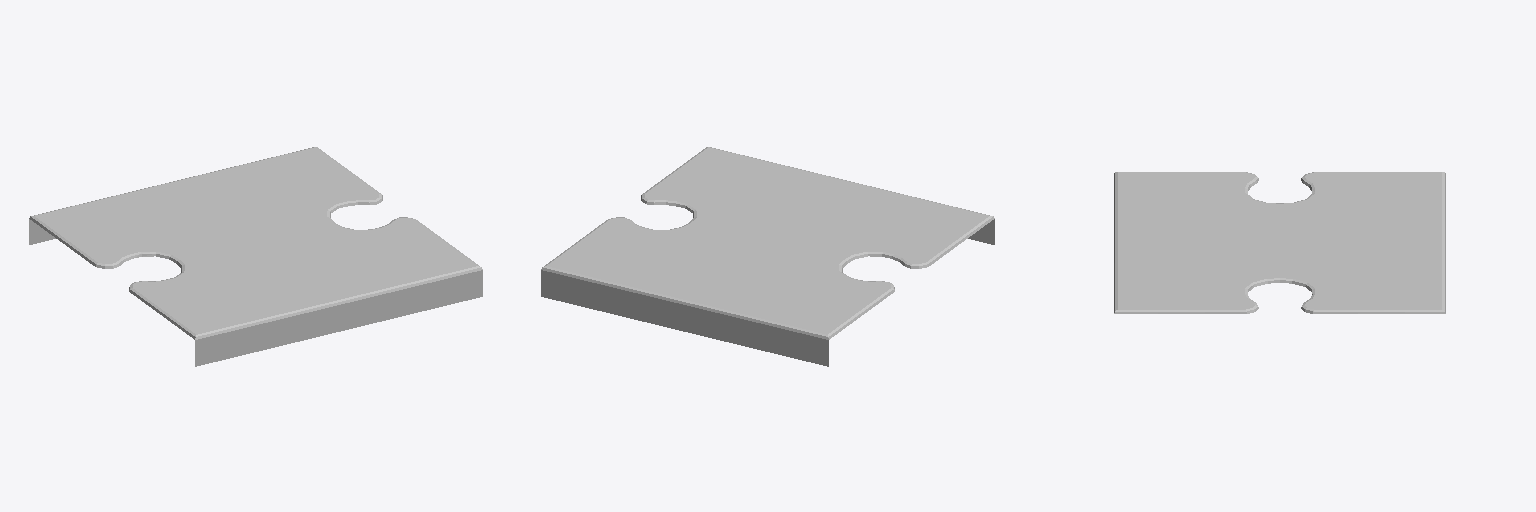
File: Horizontal Drips.obj
3 views of the same model, side by side, from view 1: azimuth 30°, elevation 25°; view 2: azimuth 150°, elevation 25°; view 3: azimuth 270°, elevation 25° (orthographic).
Parts seen in each view (by area): view 1: PuzzleStraightHorizontalDips; view 2: PuzzleStraightHorizontalDips; view 3: PuzzleStraightHorizontalDips.
Part boxes in pixels (x1,y1,x2,y2): PuzzleStraightHorizontalDips: (29,147,482,366); PuzzleStraightHorizontalDips: (541,147,994,366); PuzzleStraightHorizontalDips: (1114,172,1445,313).
Size of the model in its own units: 591 by 59.05 by 591.